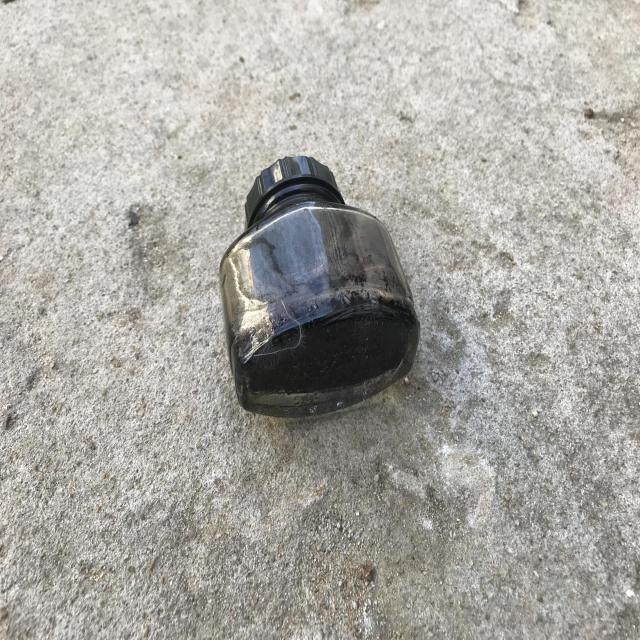glass: (219, 155, 420, 417)
